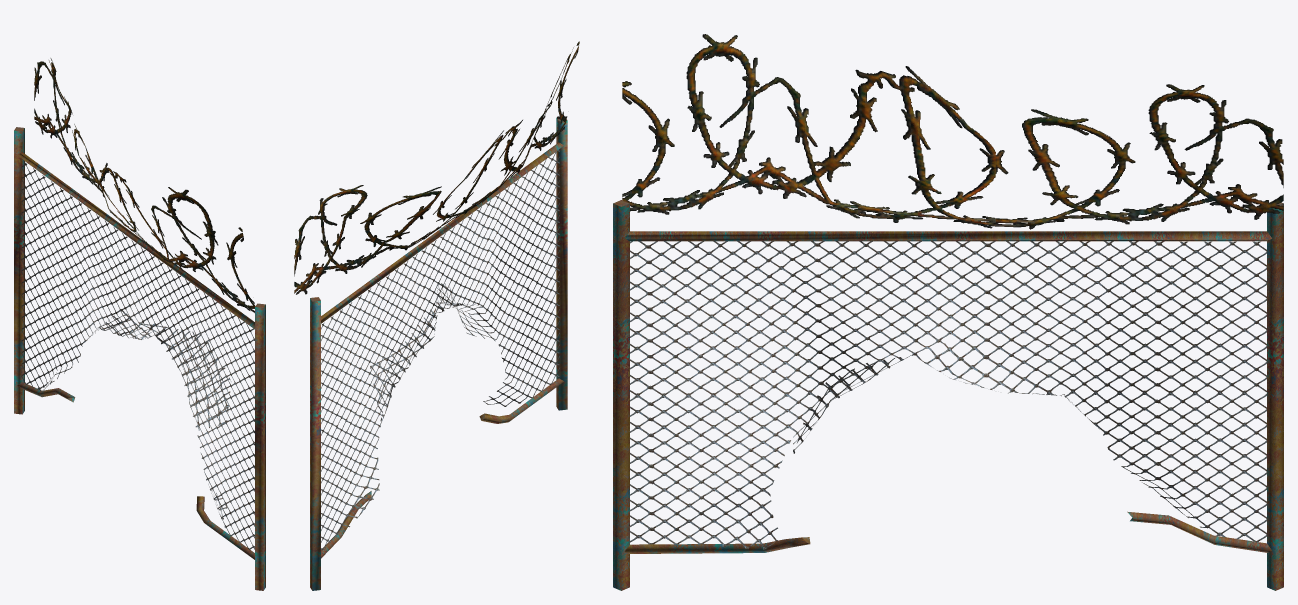
The model's file is Prop_Tsw04.glb.
The picture shows the model from 3 angles, left to right: view 1: azimuth 30°, elevation 25°; view 2: azimuth 150°, elevation 25°; view 3: azimuth 270°, elevation 25°; orthographic projection. The views are drawn at different scales.
Visible parts, largest first — view 1: xiutz_tsw_04_0; view 2: xiutz_tsw_04_0; view 3: xiutz_tsw_04_0.
Boxes of the visible parts, box(x1,y1,x2,y2) form: xiutz_tsw_04_0: box(14, 58, 265, 590); xiutz_tsw_04_0: box(294, 41, 579, 590); xiutz_tsw_04_0: box(613, 34, 1283, 590).
Bounding box in the file's own units: 2.01 × 7.28 × 8.32.
2 materials, 2 textured.
